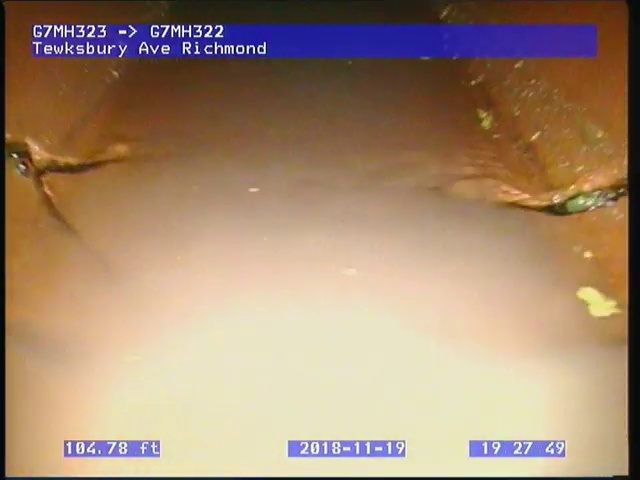crack: (4, 131, 137, 242), (446, 172, 627, 220)
